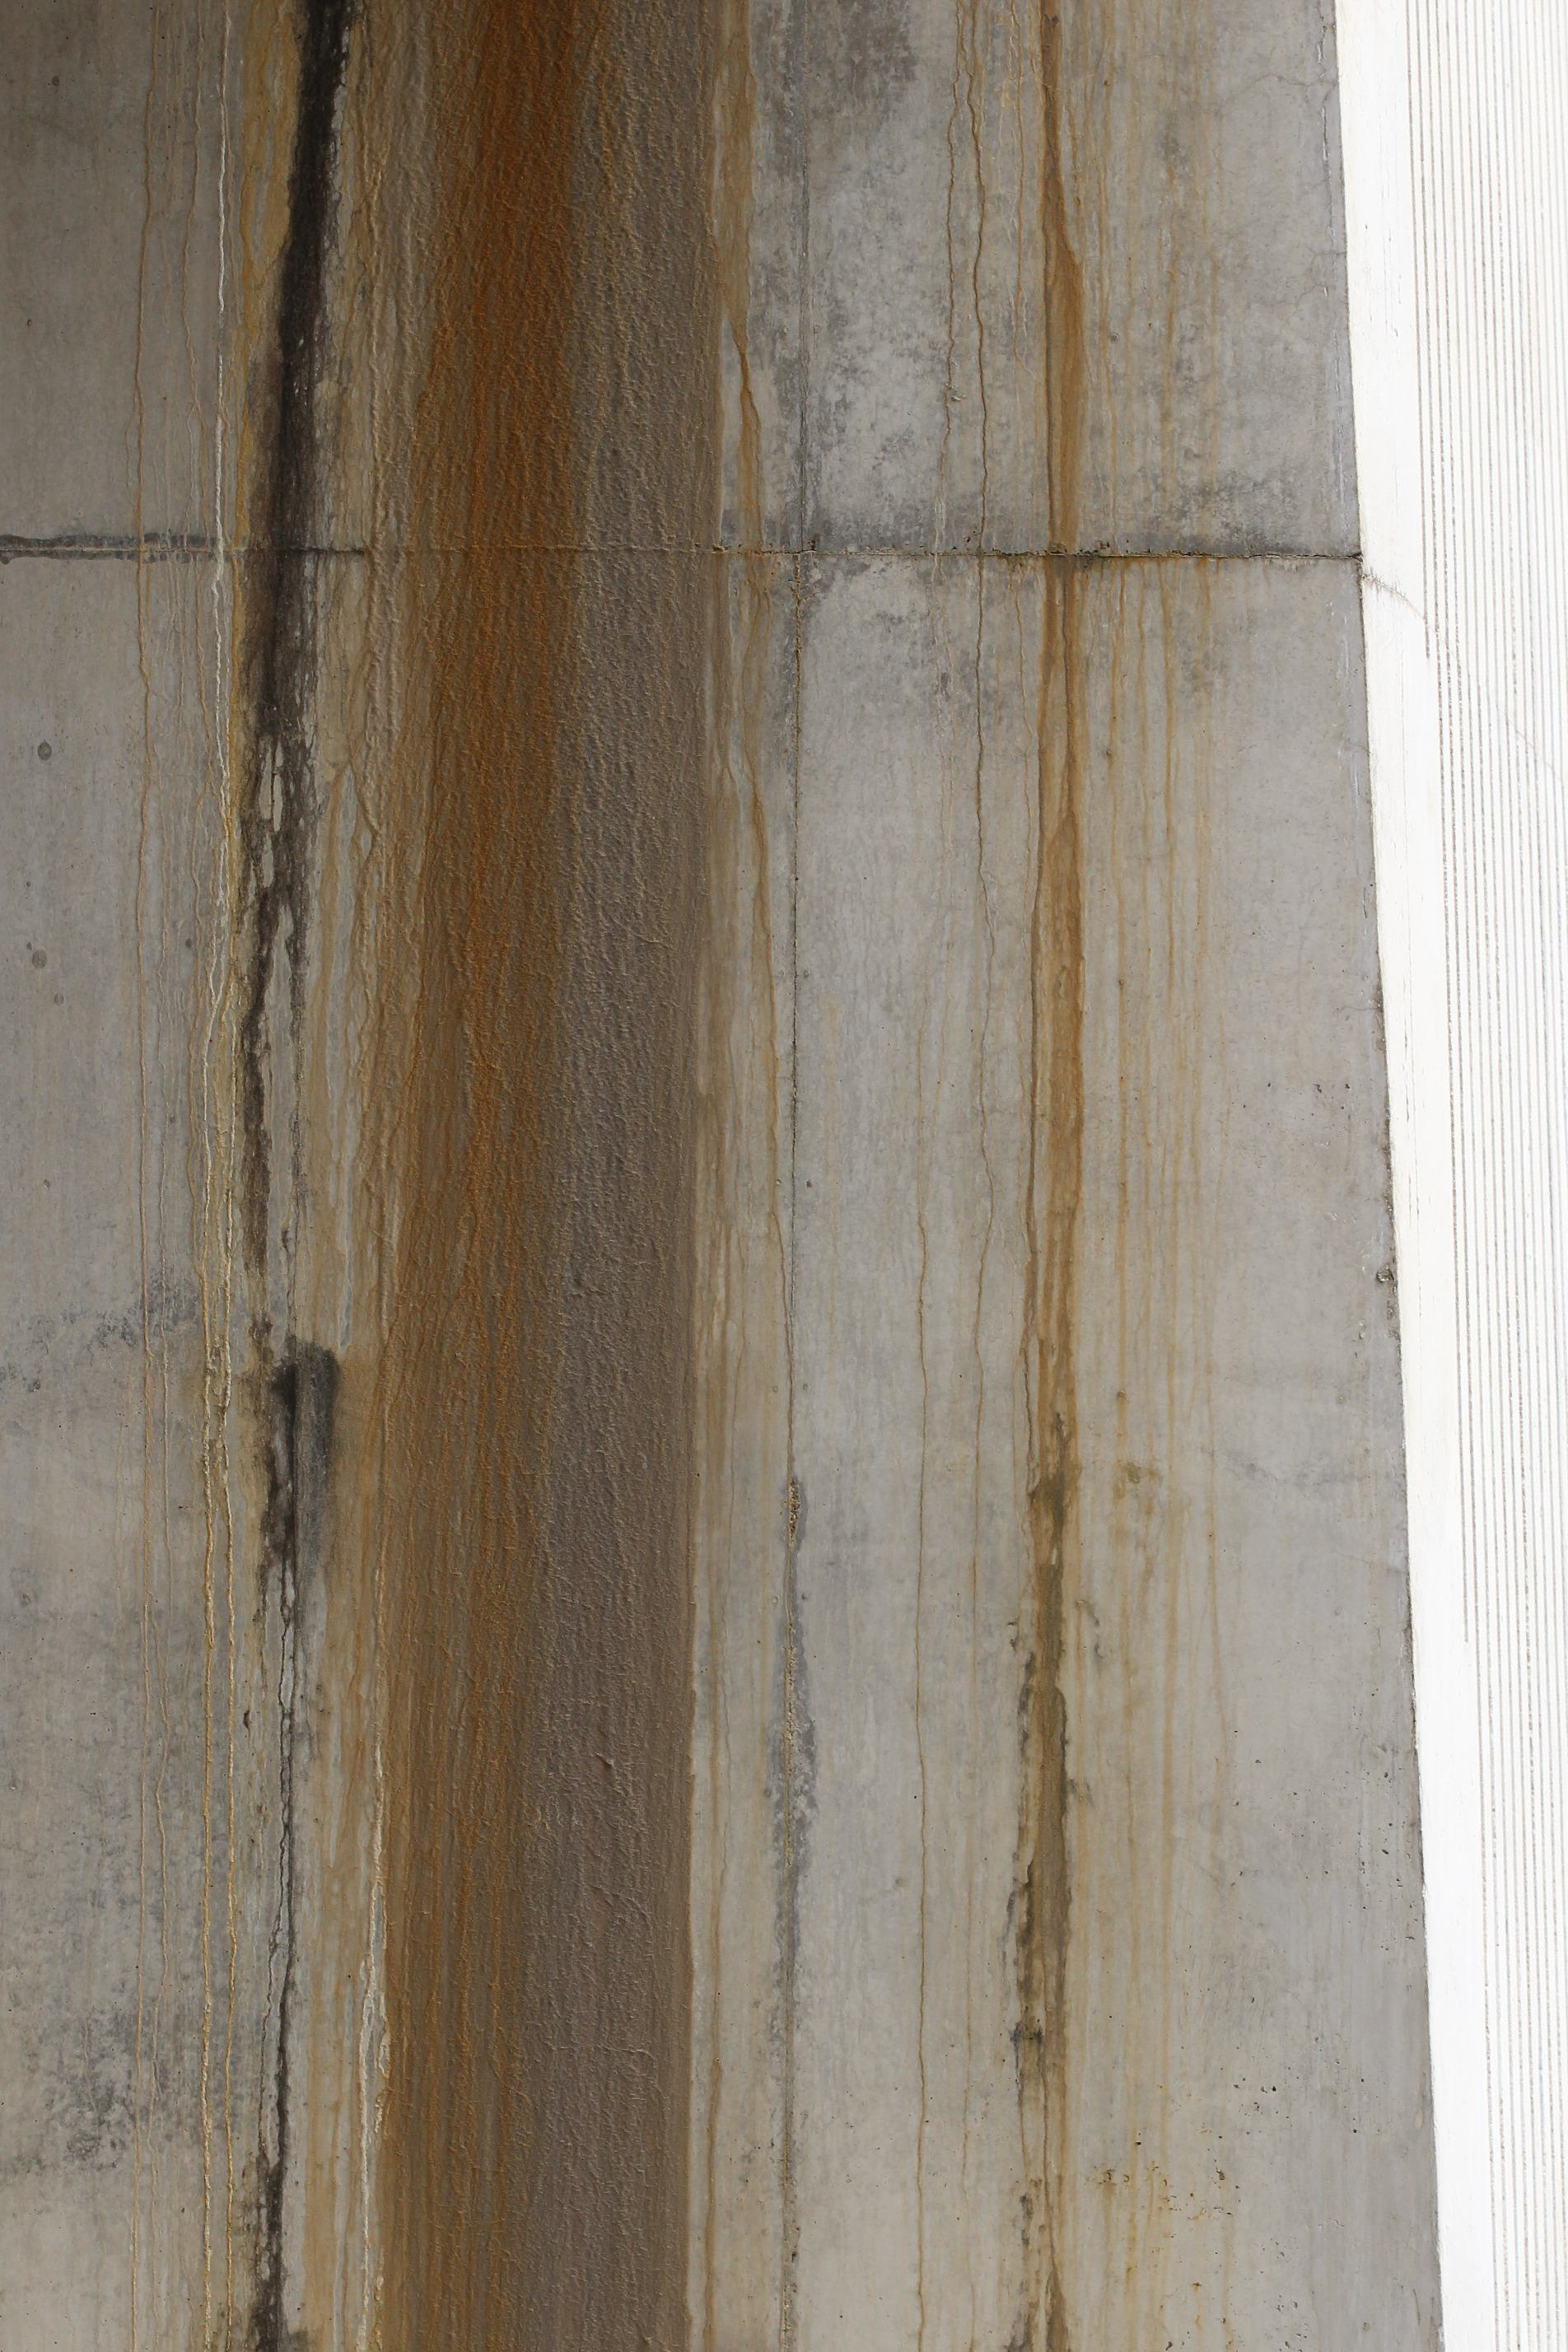Corrosion: (135, 0, 780, 2352), (934, 0, 1227, 2352)
